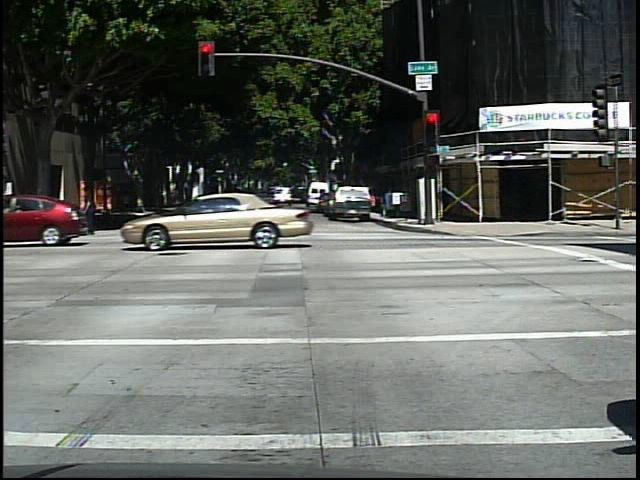person: (77, 184, 107, 237)
